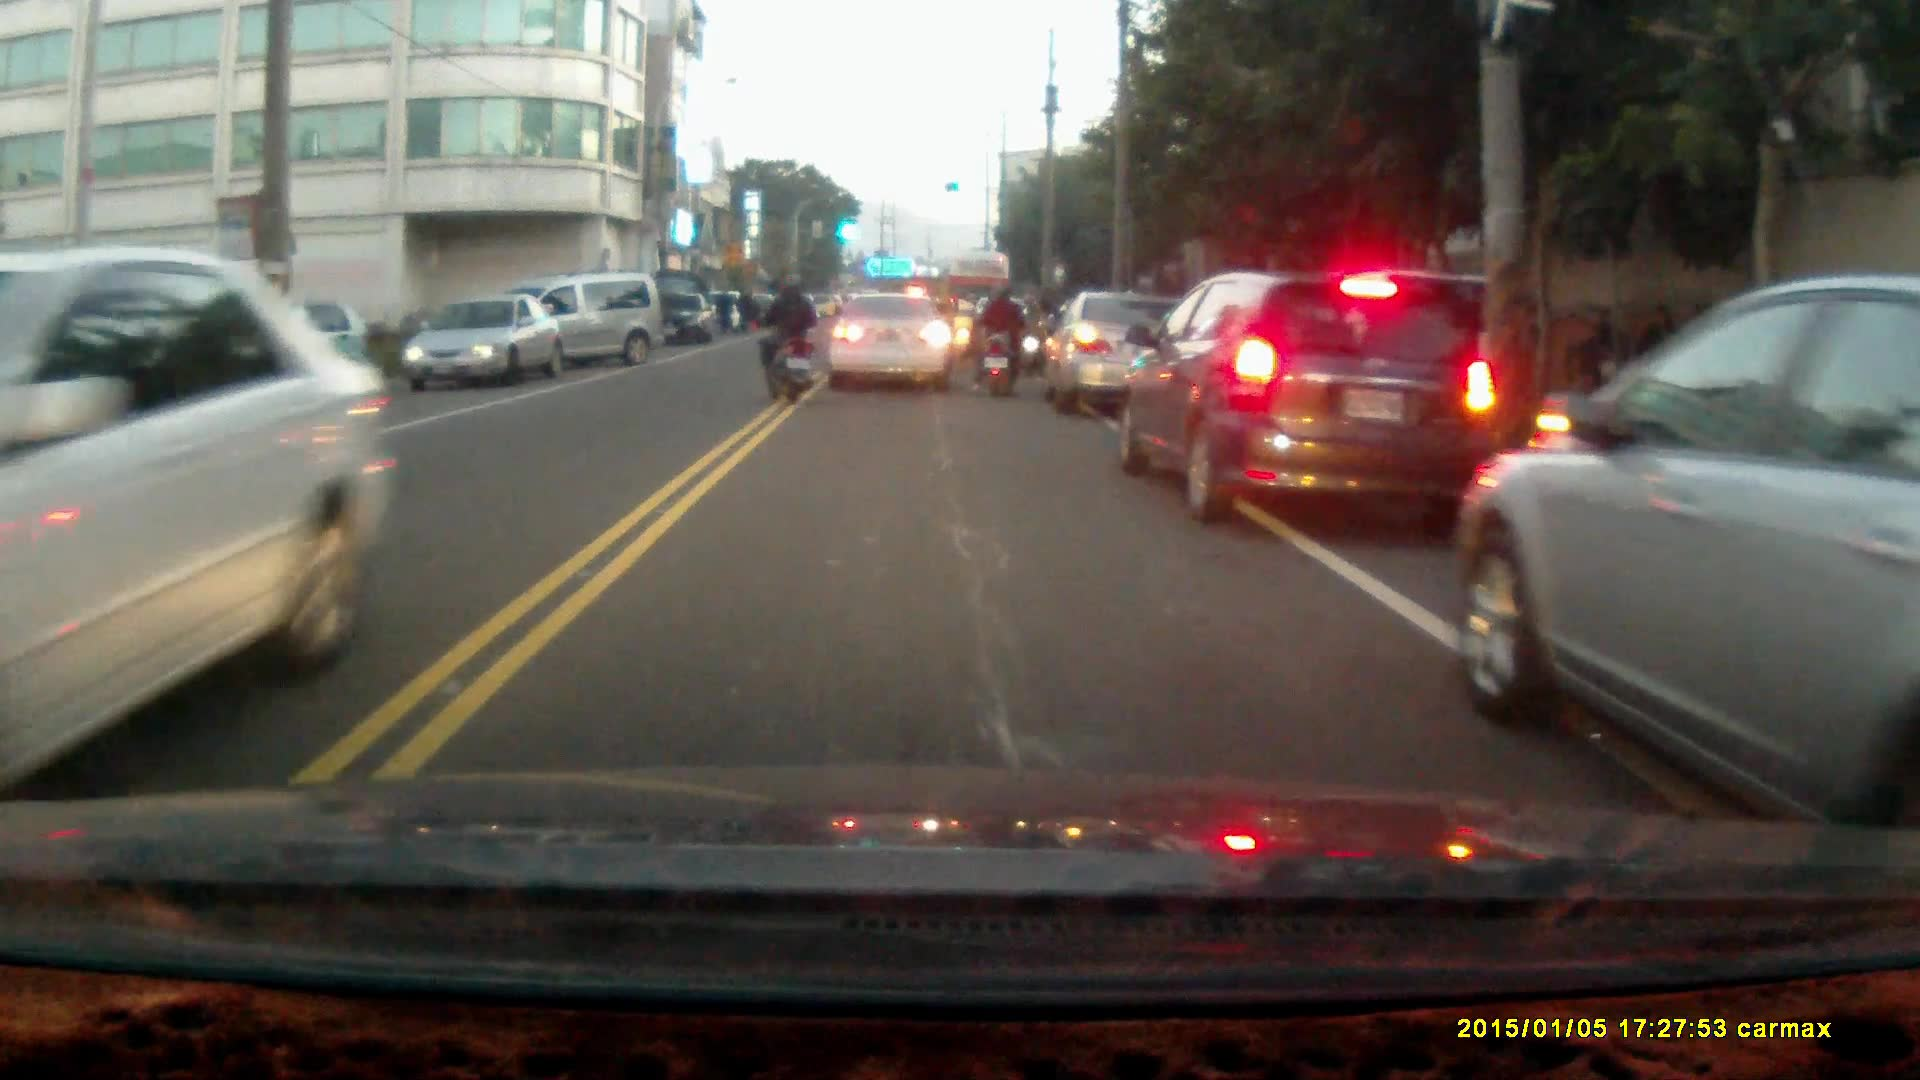pedestrian: (1636, 301, 1690, 438), (1581, 304, 1627, 442)
rider: (757, 277, 818, 402), (969, 274, 1028, 399)
vehicle: (1452, 269, 1920, 853), (1, 253, 374, 814), (1109, 265, 1499, 525), (1046, 291, 1184, 414), (400, 289, 565, 390), (507, 270, 665, 372), (829, 289, 951, 398), (658, 291, 713, 345)
